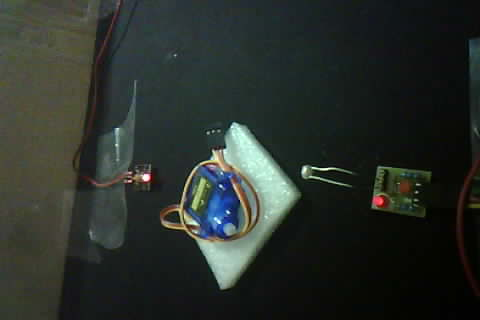motor: (153, 107, 265, 259)
